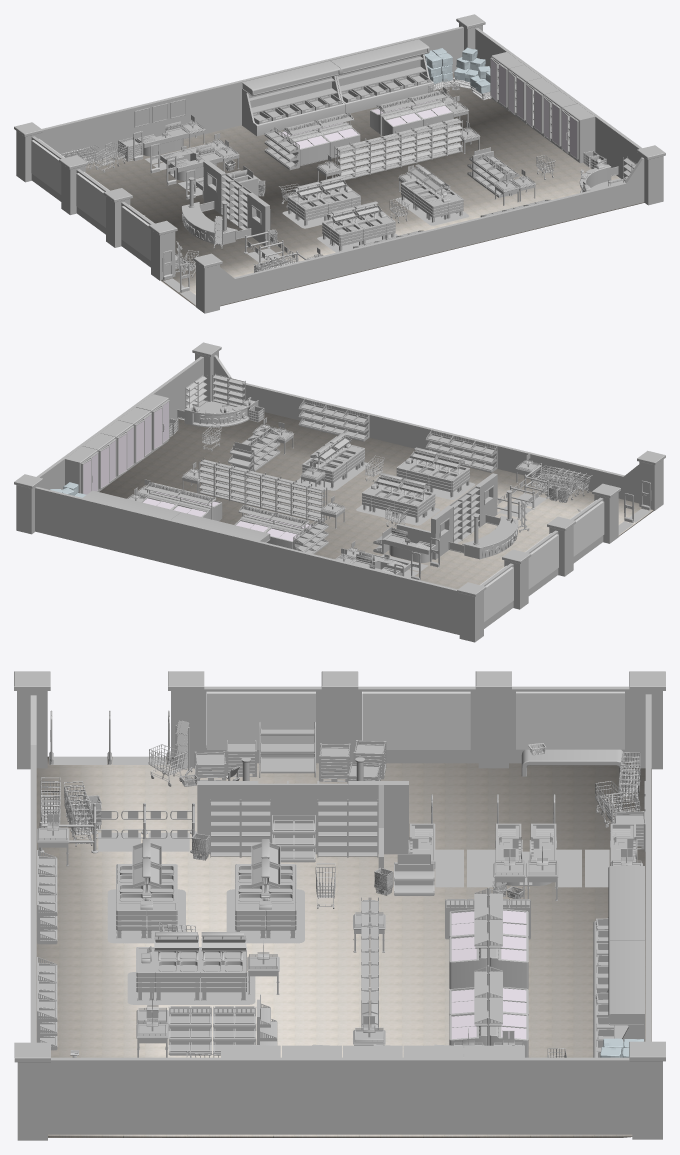
The model's file is Supermarket.fbx.
3 renders of one model, top to bottom at view 1: azimuth 30°, elevation 25°; view 2: azimuth 150°, elevation 25°; view 3: azimuth 270°, elevation 25°, orthographic. The views are drawn at different scales.
Visible parts, largest first — view 1: FloorPlane, Wall, Pillars, FRIDGE_Long.001, FRIDGE_Long, Shelves1.005, INFODESK_BackWall, Plane, Shelves1.004, CTRL_Hole.003, CTRL_Hole.002, CTRL_Hole.001 (+26 smaller); view 2: Wall, FloorPlane, Pillars, Shelves1.004, Plane, INFODESK_BackWall, Shelves1.005, CTRL_Hole.001, CTRL_Hole.002, INFO_Desk, CTRL_Hole.003, FROM_Counter (+30 smaller); view 3: FloorPlane, Wall, Pillars, Plane, INFODESK_BackWall, CTRL_Hole.003, CTRL_Hole.002, CTRL_Hole.001, FRIDGE_Long, FRIDGE_Long.001, FRESH_Boarding.002, PLANT_Holder (+54 smaller).
Part boxes in pixels (x1=…): FloorPlane: x1=85, y1=73, x2=644, y2=306; Wall: x1=31, y1=26, x2=644, y2=305; Pillars: x1=14, y1=14, x2=665, y2=313; FRIDGE_Long.001: x1=242, y1=61, x2=345, y2=136; FRIDGE_Long: x1=330, y1=39, x2=433, y2=113; Shelves1.005: x1=337, y1=118, x2=462, y2=180; INFODESK_BackWall: x1=203, y1=160, x2=269, y2=246; Plane: x1=145, y1=158, x2=624, y2=304; Shelves1.004: x1=334, y1=116, x2=459, y2=177; CTRL_Hole.003: x1=31, y1=139, x2=64, y2=194; CTRL_Hole.002: x1=76, y1=172, x2=109, y2=227; CTRL_Hole.001: x1=121, y1=205, x2=154, y2=260; Wall: x1=35, y1=355, x2=639, y2=634; FloorPlane: x1=99, y1=412, x2=653, y2=589; Pillars: x1=14, y1=342, x2=665, y2=642; Shelves1.004: x1=198, y1=459, x2=324, y2=522; Plane: x1=179, y1=401, x2=650, y2=577; INFODESK_BackWall: x1=396, y1=473, x2=497, y2=559; Shelves1.005: x1=201, y1=458, x2=327, y2=521; CTRL_Hole.001: x1=570, y1=500, x2=604, y2=556; CTRL_Hole.002: x1=525, y1=533, x2=558, y2=589; INFO_Desk: x1=462, y1=515, x2=518, y2=559; CTRL_Hole.003: x1=480, y1=565, x2=513, y2=621; FROM_Counter: x1=184, y1=400, x2=255, y2=427; FloorPlane: x1=36, y1=756, x2=651, y2=1137; Wall: x1=30, y1=686, x2=651, y2=1134; Pillars: x1=14, y1=671, x2=665, y2=1140; Plane: x1=53, y1=756, x2=609, y2=1004; INFODESK_BackWall: x1=197, y1=781, x2=408, y2=868; CTRL_Hole.003: x1=516, y1=691, x2=624, y2=749; CTRL_Hole.002: x1=362, y1=691, x2=470, y2=749; CTRL_Hole.001: x1=207, y1=691, x2=315, y2=749; FRIDGE_Long: x1=593, y1=940, x2=644, y2=1057; FRIDGE_Long.001: x1=593, y1=866, x2=644, y2=996; FRESH_Boarding.002: x1=136, y1=947, x2=246, y2=992; PLANT_Holder: x1=259, y1=721, x2=316, y2=777.
Bounding box in the file's own units: 5107 × 530 × 3639.
